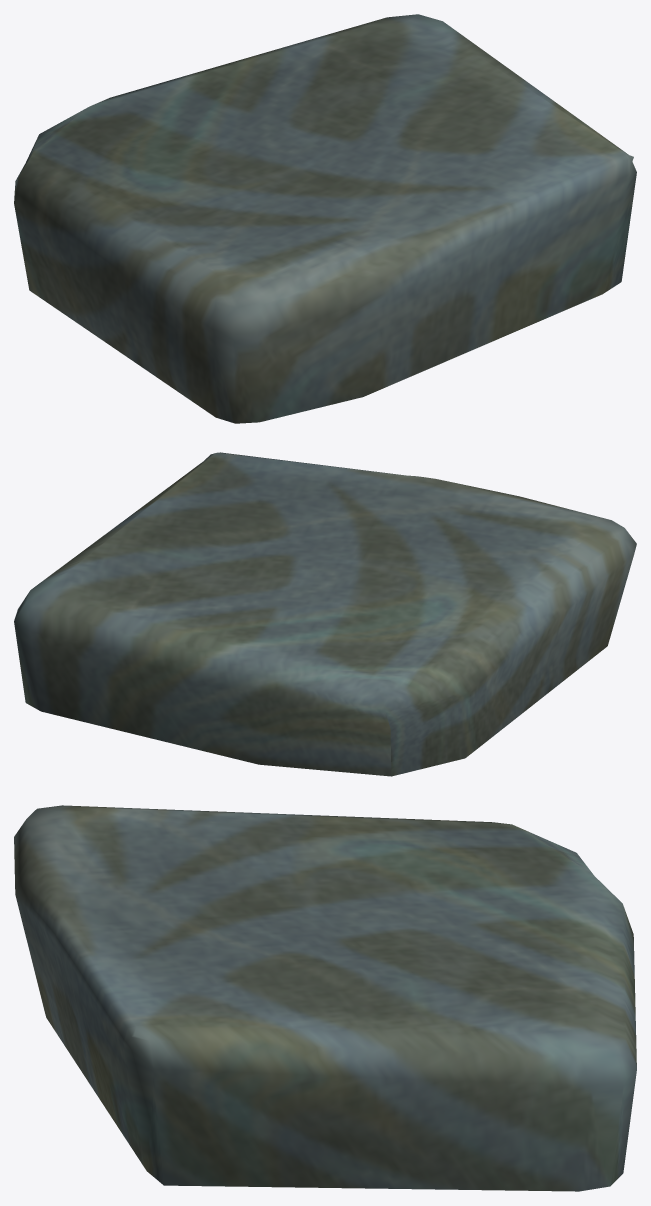
The model's file is BlockTile_C.dae.
3 renders of one model, top to bottom at view 1: azimuth 30°, elevation 25°; view 2: azimuth 150°, elevation 25°; view 3: azimuth 270°, elevation 25°, orthographic. The views are drawn at different scales.
Visible parts, largest first — view 1: BlockTile_C; view 2: BlockTile_C; view 3: BlockTile_C.
Boxes of the visible parts, x1=… form: BlockTile_C: x1=14, y1=14, x2=636, y2=423; BlockTile_C: x1=14, y1=452, x2=636, y2=776; BlockTile_C: x1=14, y1=805, x2=636, y2=1191.
Size of what is drawn, in the model's own units: 89.64 by 24.79 by 90.67.
